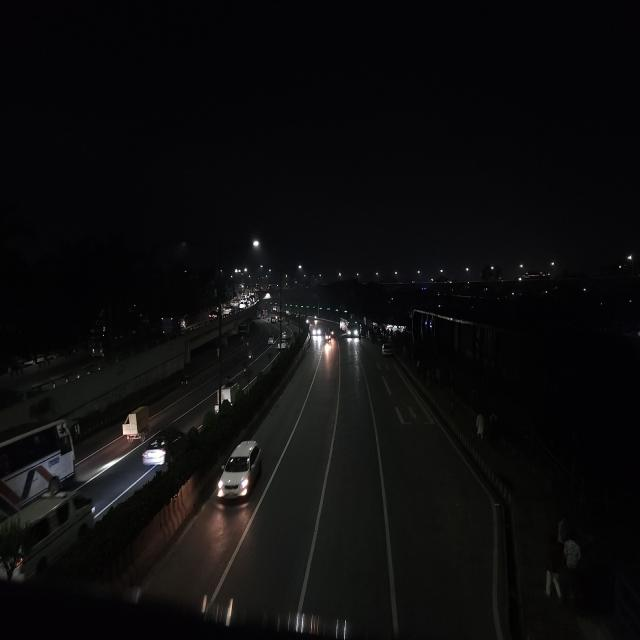bus: (0, 416, 80, 528), (346, 317, 360, 339)
car: (213, 437, 266, 511), (140, 422, 184, 472), (379, 341, 393, 358), (277, 335, 288, 350), (223, 306, 234, 315), (312, 326, 321, 336), (209, 310, 218, 320), (240, 301, 247, 310)
cng: (90, 333, 111, 365), (179, 313, 189, 328), (324, 331, 332, 343), (267, 334, 274, 346)
motorcycle: (244, 347, 254, 365)
rickshaw: (120, 418, 145, 448)
truck: (158, 314, 179, 338)
